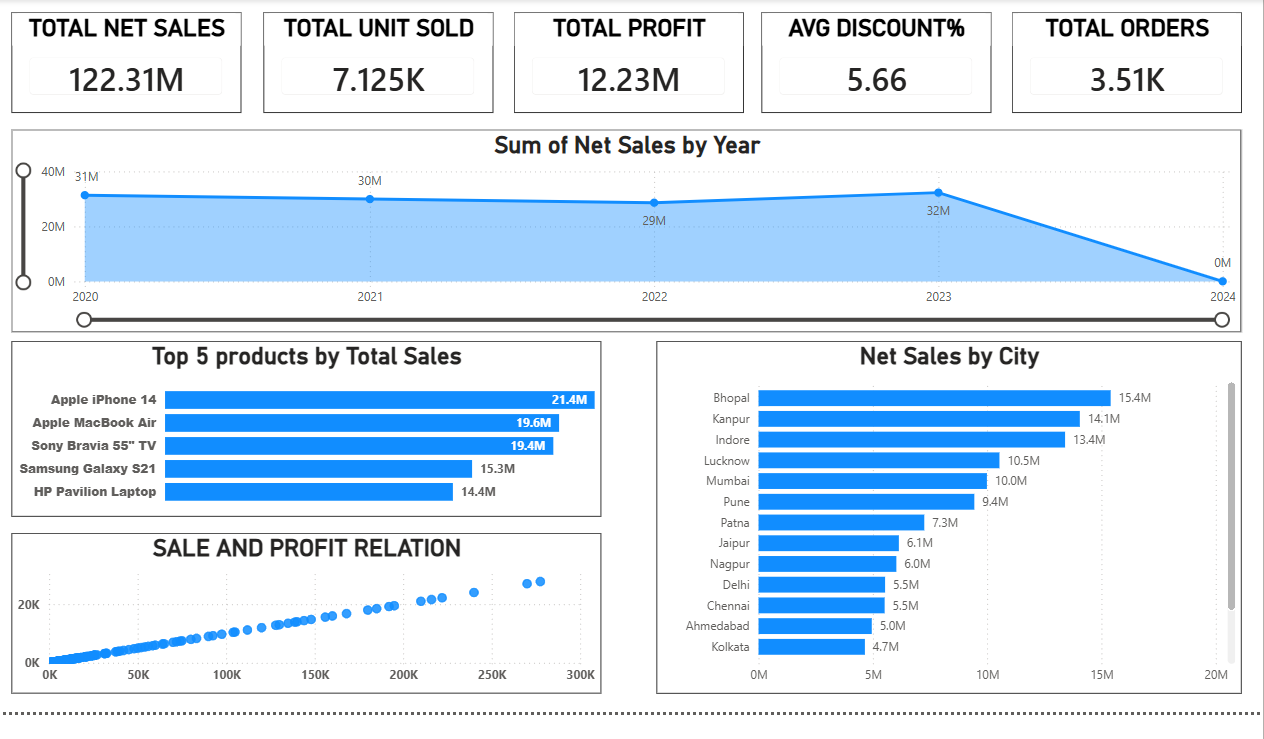

The page's visual inventory and layout, read from the dashboard file:
{"tool":"powerbi","page":{"name":"overview","canvas":[1280,720],"ordinal":0},"visuals":[{"type":"cardVisual","title":"TOTAL NET SALES ","fields":{"Data":["Sum(Sheet3.Net Sales)"]},"box":[16.7,13.6,231.7,101.5],"z":0},{"type":"cardVisual","title":"TOTAL UNIT SOLD","fields":{"Data":["Sum(Sheet3.Units Sold)"]},"box":[271,13.6,231.7,101.5],"z":1000},{"type":"cardVisual","title":"TOTAL PROFIT","fields":{"Data":["Sum(Sheet3.PROFIT )"]},"box":[523.9,13.6,231.7,101.5],"z":2000},{"type":"cardVisual","title":"TOTAL ORDERS","fields":{"Data":["Sheet3.Total Orders"]},"box":[1026.6,13.6,231.7,101.5],"z":3000},{"type":"cardVisual","title":"AVG DISCOUNT%","fields":{"Data":["Sheet3.Avg Discount %"]},"box":[773.8,13.6,231.7,101.5],"z":4000},{"type":"lineChart","fields":{"Y":["Sum(Sheet3.Net Sales)"],"Category":["date table 2.Date.Variation.Date Hierarchy.Year","date table 2.Date.Variation.Date Hierarchy.Quarter","date table 2.Date.Variation.Date Hierarchy.Month","date table 2.Date.Variation.Date Hierarchy.Day"]},"box":[16.7,131.7,1241.6,204.4],"z":5000},{"type":"barChart","title":"Top 5 products by Total Sales","fields":{"Y":["Sum(Sheet3.Net Sales)"],"Category":["Dim Product.Product Name"]},"box":[16.7,345.2,595.1,177.2],"z":6000},{"type":"clusteredBarChart","title":"Net Sales by City","fields":{"Category":["Dim Customers.City"],"Y":["Sum(Sheet3.Net Sales)"]},"box":[667.8,345.2,590.5,355.8],"z":7000},{"type":"scatterChart","title":"SALE AND PROFIT RELATION","fields":{"X":["Sheet3.Net Sales"],"Y":["Sheet3.PROFIT "]},"box":[16.7,539.1,595.1,162],"z":8000}]}

Visuals, with their boxes on the page's 1280x720 design canvas (x1, y1, x2, y2). These are canvas units, not pixel positions in the 1264x739 screenshot, which may show the page scaled, cropped or inside an application window:
"TOTAL NET SALES " cardVisual: 17, 14, 248, 115
"TOTAL UNIT SOLD" cardVisual: 271, 14, 503, 115
"TOTAL PROFIT" cardVisual: 524, 14, 756, 115
"TOTAL ORDERS" cardVisual: 1027, 14, 1258, 115
"AVG DISCOUNT%" cardVisual: 774, 14, 1006, 115
lineChart - Sum(Sheet3.Net Sales) x date table 2.Date.Variation.Date Hierarchy.Year: 17, 132, 1258, 336
"Top 5 products by Total Sales" barChart: 17, 345, 612, 522
"Net Sales by City" clusteredBarChart: 668, 345, 1258, 701
"SALE AND PROFIT RELATION" scatterChart: 17, 539, 612, 701
